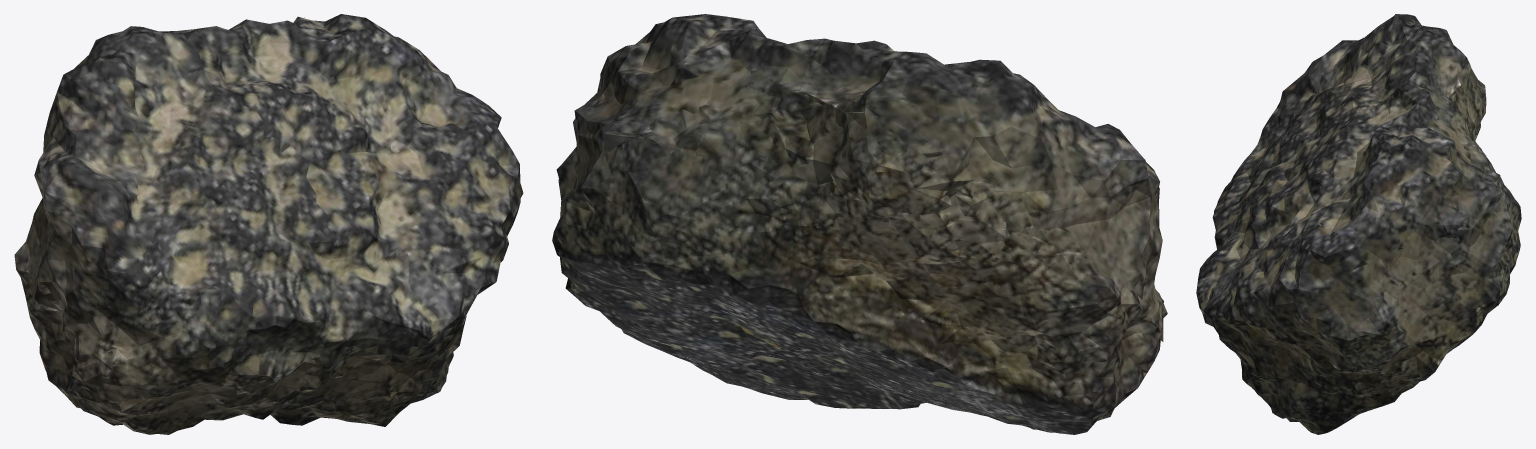
File: placa-15.glb
The picture shows the model from 3 angles, left to right: view 1: azimuth 30°, elevation 25°; view 2: azimuth 150°, elevation 25°; view 3: azimuth 270°, elevation 25°; orthographic projection. The views are drawn at different scales.
Size of the model in its own units: 0.5002 by 0.386 by 0.3544.
4 materials, 4 textured.
